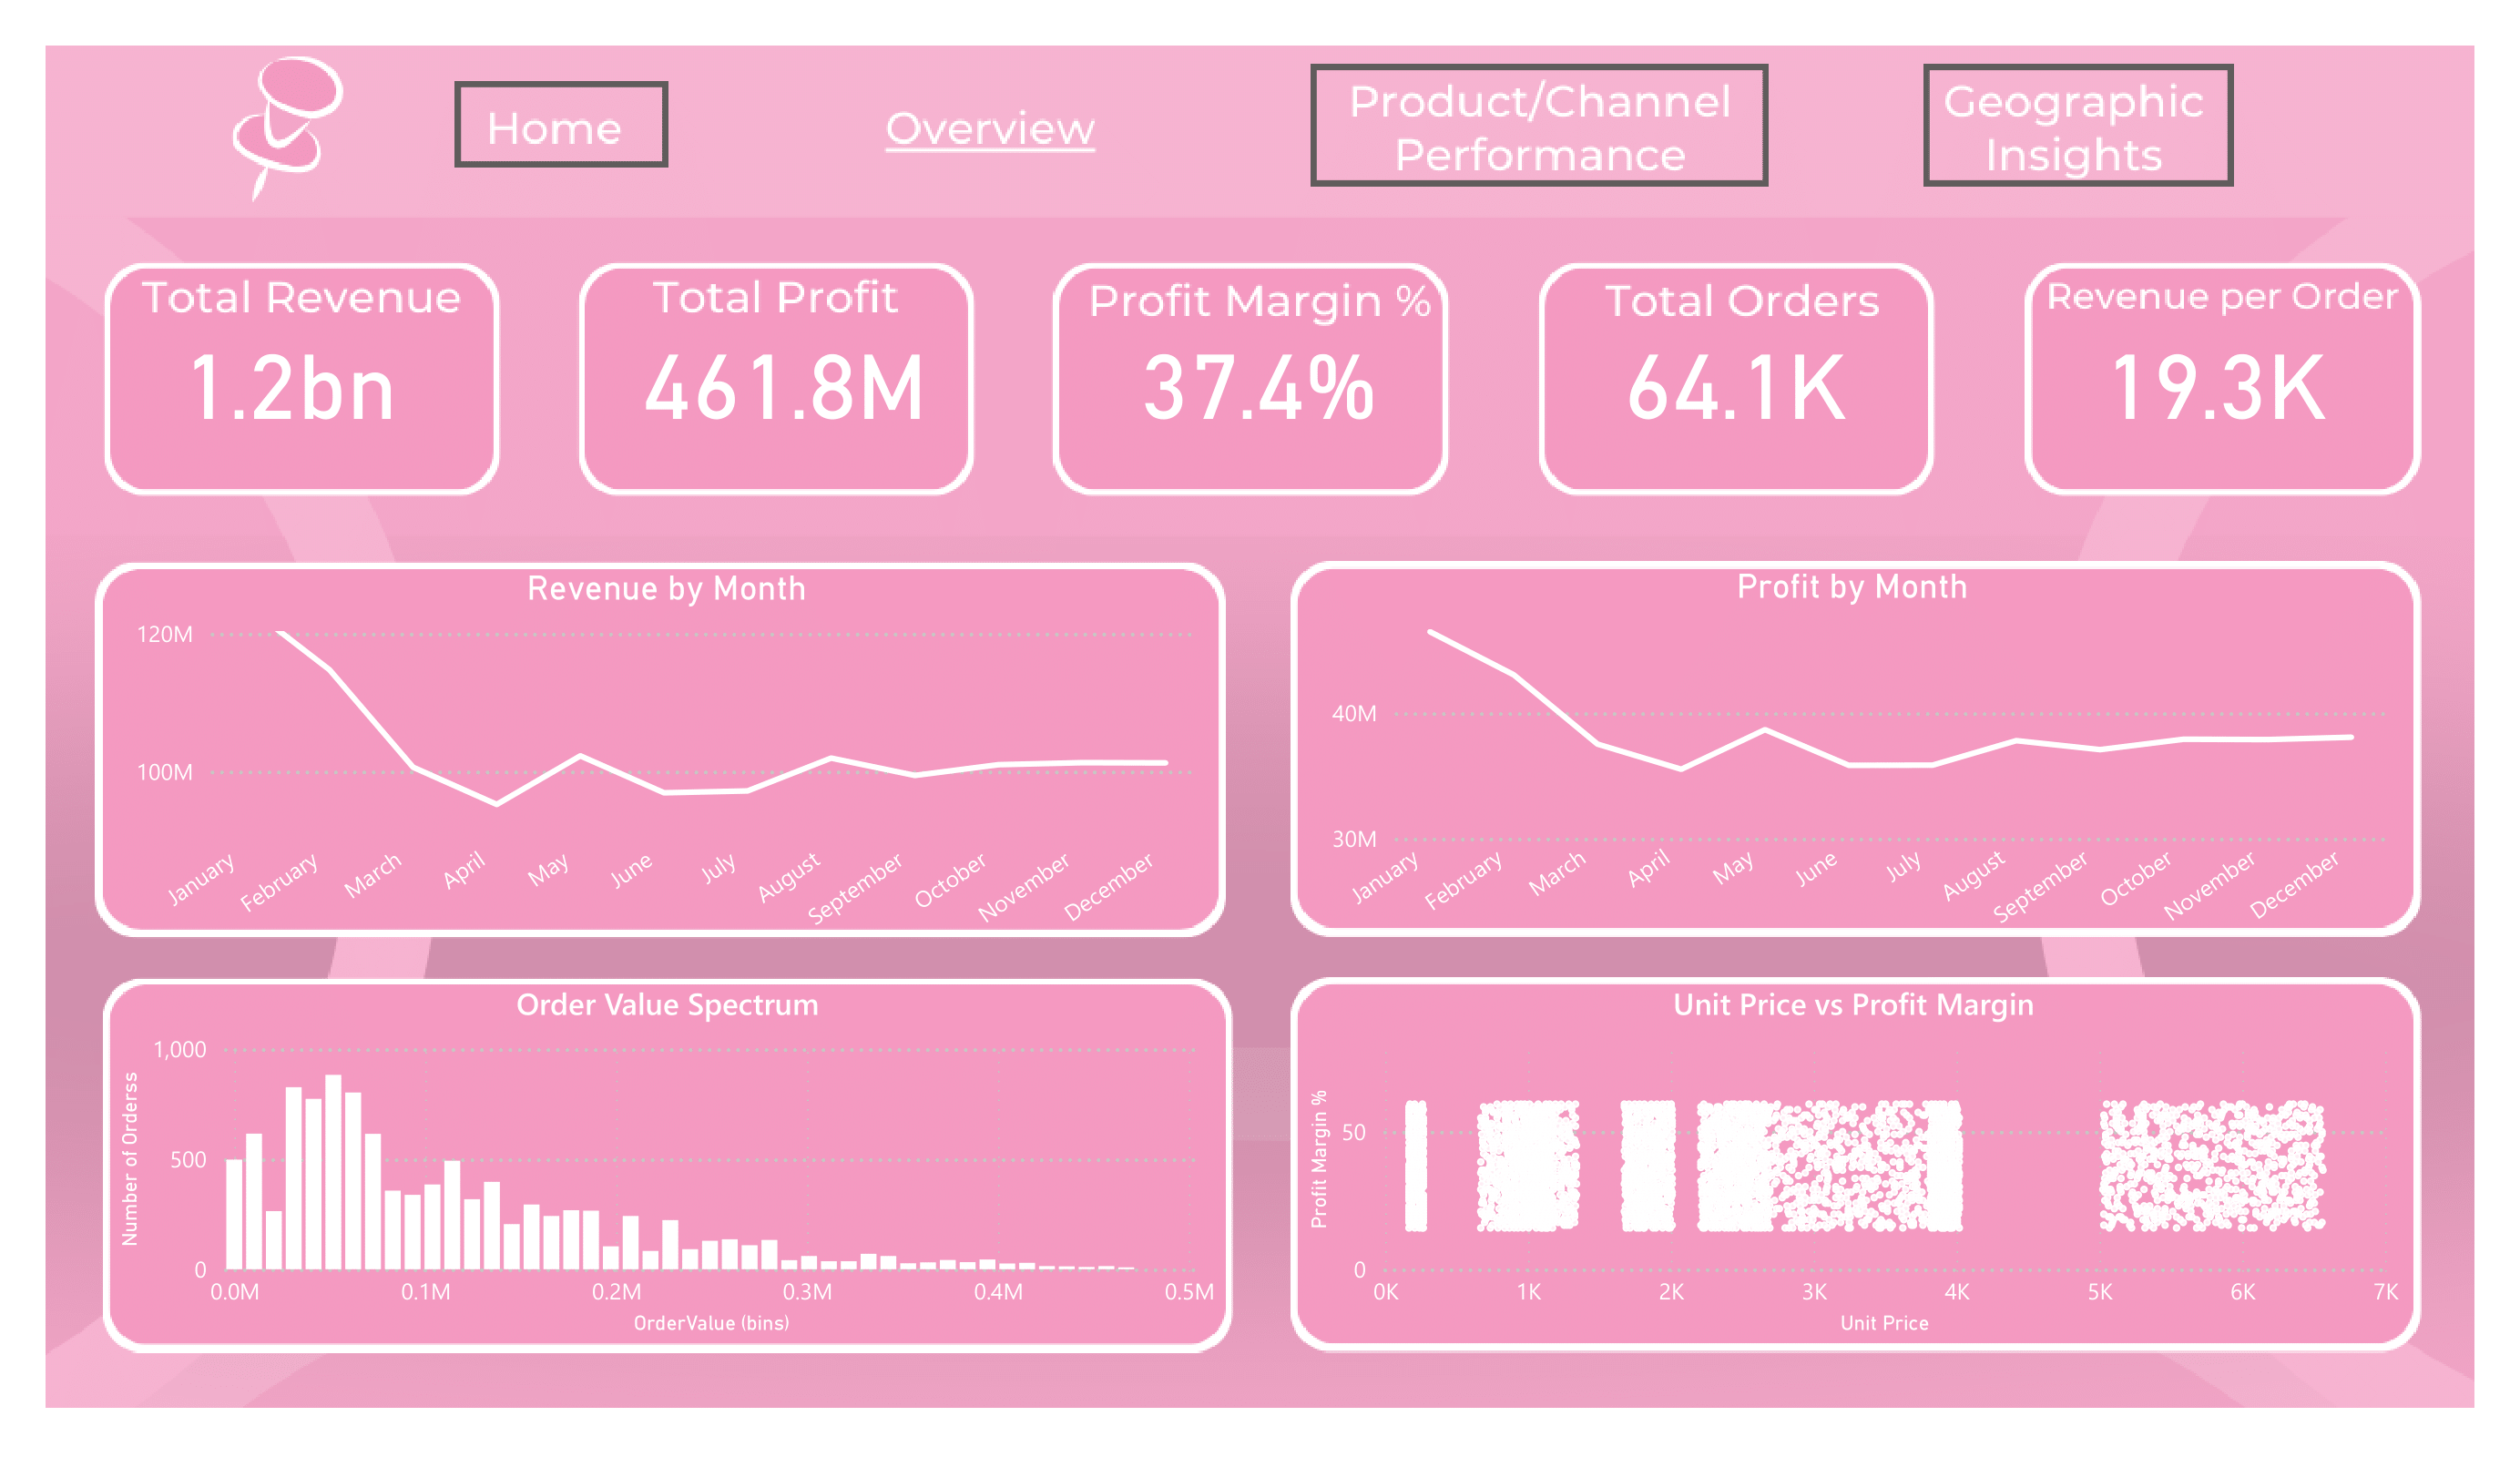

This screenshot's page, from the dashboard's own definition file:
{"tool":"powerbi","page":{"name":"Overview","canvas":[1280,720],"ordinal":1},"visuals":[{"type":"card","fields":{"Values":["Custom Measures.Total Revenue"]},"box":[41.7,123.3,173.8,102],"z":0},{"type":"card","fields":{"Values":["Sum(Sales_data(EDA Exported).profit)"]},"box":[303.3,123.3,172.9,102],"z":1000},{"type":"card","fields":{"Values":["Custom Measures.Profit Margin %"]},"box":[553.3,123.3,172.9,102],"z":2000},{"type":"card","fields":{"Values":["CountNonNull(sales_data.order_number)"]},"box":[804.2,123.3,172.9,102],"z":3000},{"type":"card","fields":{"Values":["Custom Measures.Revenue per Order"]},"box":[1056.9,123.3,172.9,102],"z":4000},{"type":"lineChart","title":"Revenue by Month","fields":{"Category":["sales_data.order_month_name"],"Y":["Custom Measures.Total Revenue"]},"box":[41.6,274.6,571.6,207.8],"z":5000},{"type":"lineChart","title":"Profit by Month","fields":{"Y":["Custom Measures.Total Profit"],"Category":["sales_data.order_month_name"]},"box":[666.9,273.6,571.6,208.8],"z":6000},{"type":"columnChart","title":"Order Value Spectrum","fields":{"Category":["Order_Value_Distribution.OrderValue (bins)"],"Y":["CountNonNull(Order_Value_Distribution.order_number)"]},"box":[34.5,493.6,587.8,190.5],"z":7000},{"type":"scatterChart","title":"Unit Price vs Profit Margin","fields":{"X":["sales_data.unit_price"],"Y":["sales_data.profit_margin_pct"]},"box":[660.8,493.6,583.8,190.5],"z":8000},{"type":"actionButton","box":[215.6,18.9,112.2,45.6],"z":9000},{"type":"actionButton","box":[666.7,10,241.1,64.4],"z":10000},{"type":"actionButton","box":[990,10,163.3,64.4],"z":11000}]}

Visuals, with their boxes on the page's 1280x720 design canvas (x1, y1, x2, y2). These are canvas units, not pixel positions in the 2520x1457 screenshot, which may show the page scaled, cropped or inside an application window:
card - Custom Measures.Total Revenue: {"x1": 42, "y1": 123, "x2": 216, "y2": 225}
card - Sum(Sales_data(EDA Exported).profit): {"x1": 303, "y1": 123, "x2": 476, "y2": 225}
card - Custom Measures.Profit Margin %: {"x1": 553, "y1": 123, "x2": 726, "y2": 225}
card - CountNonNull(sales_data.order_number): {"x1": 804, "y1": 123, "x2": 977, "y2": 225}
card - Custom Measures.Revenue per Order: {"x1": 1057, "y1": 123, "x2": 1230, "y2": 225}
"Revenue by Month" lineChart: {"x1": 42, "y1": 275, "x2": 613, "y2": 482}
"Profit by Month" lineChart: {"x1": 667, "y1": 274, "x2": 1238, "y2": 482}
"Order Value Spectrum" columnChart: {"x1": 34, "y1": 494, "x2": 622, "y2": 684}
"Unit Price vs Profit Margin" scatterChart: {"x1": 661, "y1": 494, "x2": 1245, "y2": 684}
actionButton: {"x1": 216, "y1": 19, "x2": 328, "y2": 64}
actionButton: {"x1": 667, "y1": 10, "x2": 908, "y2": 74}
actionButton: {"x1": 990, "y1": 10, "x2": 1153, "y2": 74}
